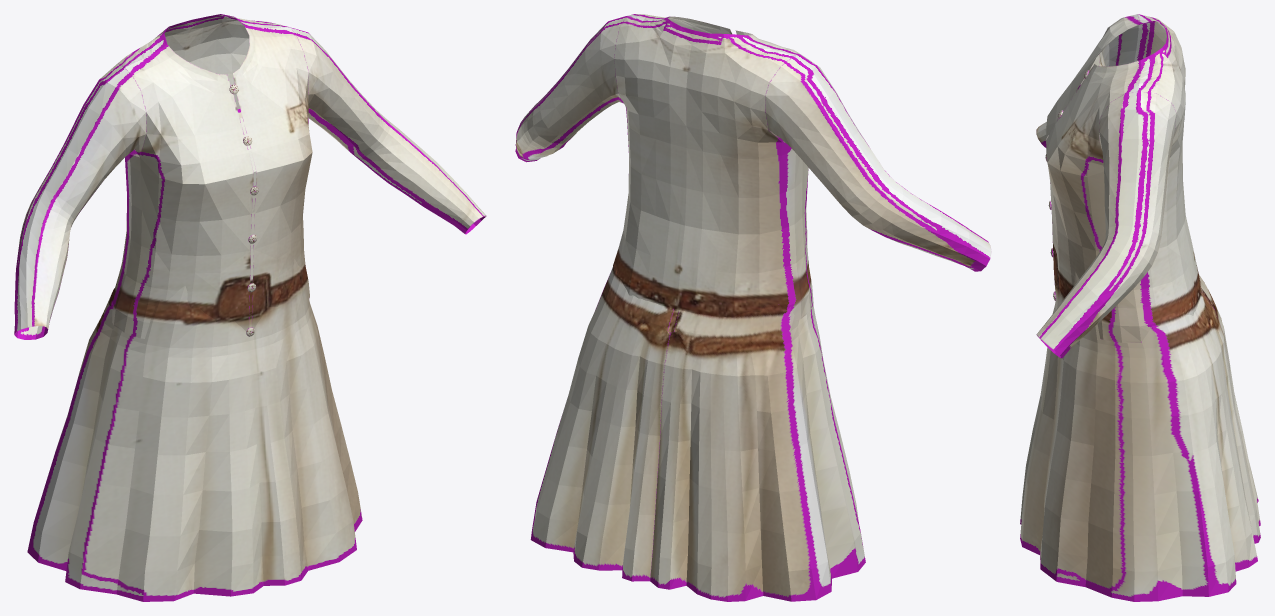
3 views of the same model, side by side, from view 1: azimuth 30°, elevation 25°; view 2: azimuth 150°, elevation 25°; view 3: azimuth 270°, elevation 25° (orthographic). The views are drawn at different scales.
Bounding box in the file's own units: 0.8297 × 0.8751 × 0.3835.
Materials: 1 (1 with a texture image).
